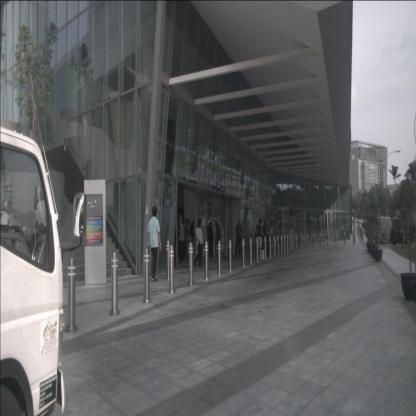human-pedestrian-adult: (147, 207, 161, 282), (194, 218, 206, 266), (176, 214, 186, 266), (189, 214, 199, 260), (255, 218, 264, 260), (262, 220, 271, 257), (234, 221, 243, 257), (206, 219, 214, 258), (214, 219, 222, 258)
vehicle-car: (155, 166, 189, 207), (370, 216, 402, 244), (390, 218, 416, 246), (275, 221, 300, 244), (339, 224, 356, 239), (206, 182, 221, 196), (216, 183, 226, 193)
vehicle-truck: (1, 125, 66, 416)
